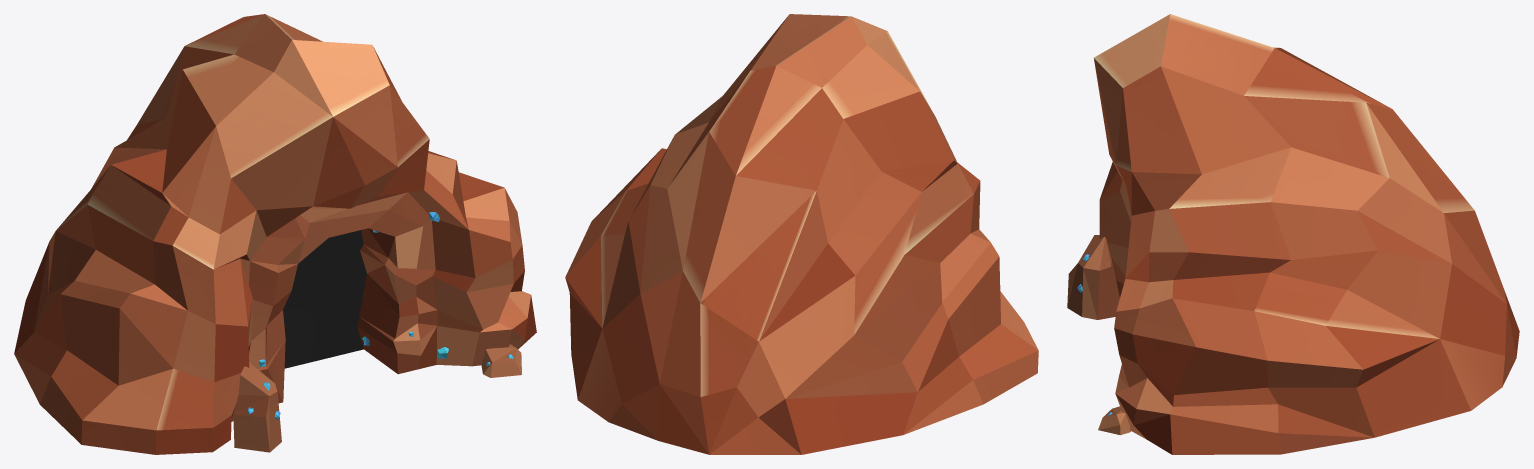
File: DesertCave.fbx
3 renders of one model, left to right at view 1: azimuth 30°, elevation 25°; view 2: azimuth 150°, elevation 25°; view 3: azimuth 270°, elevation 25°, orthographic. The views are drawn at different scales.
Parts seen in each view (by area): view 1: DesertCave; view 2: DesertCave; view 3: DesertCave.
Boxes of the visible parts, x1,y1,x2,y2 form: DesertCave: (14, 14, 536, 454); DesertCave: (565, 14, 1038, 454); DesertCave: (1067, 14, 1519, 454).
Bounding box in the file's own units: 9036 × 6678 × 8317.
